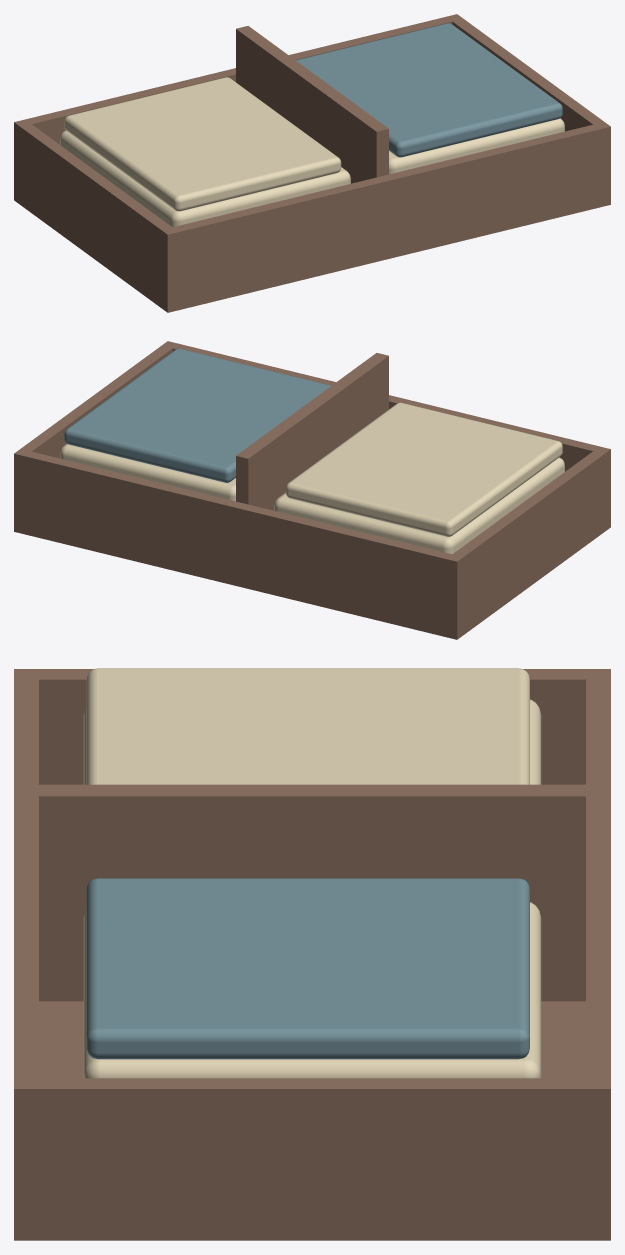
The picture shows the model from 3 angles, top to bottom: view 1: azimuth 30°, elevation 25°; view 2: azimuth 150°, elevation 25°; view 3: azimuth 270°, elevation 25°; orthographic projection. The views are drawn at different scales.
Visible parts, largest first — view 1: tray-edge-front, fold-left-1-over, fold-right-1-over, tray-floor, tray-end-left, linen-divider, fold-left-1-under, tray-edge-back, fold-right-1-under, tray-end-right; view 2: tray-edge-back, fold-left-1-over, fold-right-1-over, tray-floor, tray-end-left, linen-divider, fold-left-1-under, tray-edge-front, fold-right-1-under, tray-end-right; view 3: fold-right-1-over, tray-end-right, linen-divider, fold-left-1-over, tray-floor, tray-edge-back, tray-edge-front, fold-right-1-under, tray-end-left, fold-left-1-under.
Boxes of the visible parts, box(x1,y1,x2,y2) form: tray-edge-front: box(161, 122, 610, 294); fold-left-1-over: box(64, 77, 341, 211); fold-right-1-over: box(296, 23, 562, 157); tray-floor: box(14, 182, 610, 312); tray-end-left: box(20, 124, 171, 289); linen-divider: box(236, 26, 388, 183); fold-left-1-under: box(60, 130, 350, 227); tray-edge-back: box(14, 14, 463, 186); fold-right-1-under: box(389, 118, 564, 174); tray-end-right: box(452, 19, 603, 131); tray-edge-back: box(14, 449, 463, 621); fold-left-1-over: box(286, 402, 562, 536); fold-right-1-over: box(64, 348, 331, 482); tray-floor: box(14, 509, 610, 639); tray-end-left: box(453, 451, 604, 616); linen-divider: box(236, 353, 388, 510); fold-left-1-under: box(274, 457, 564, 554); tray-edge-front: box(161, 341, 610, 513); fold-right-1-under: box(60, 444, 235, 501); tray-end-right: box(21, 346, 172, 458); fold-right-1-over: box(86, 878, 529, 1059); tray-end-right: box(39, 1078, 585, 1205); linen-divider: box(39, 784, 585, 1001); fold-left-1-over: box(86, 668, 529, 784); tray-floor: box(14, 1001, 610, 1240); tray-edge-back: box(586, 669, 610, 1205); tray-edge-front: box(14, 669, 38, 1205); fold-right-1-under: box(83, 902, 541, 1078); tray-end-left: box(39, 669, 585, 784); fold-left-1-under: box(83, 699, 541, 784).
Size of the model in its own units: 0.356 by 0.095 by 0.214.
